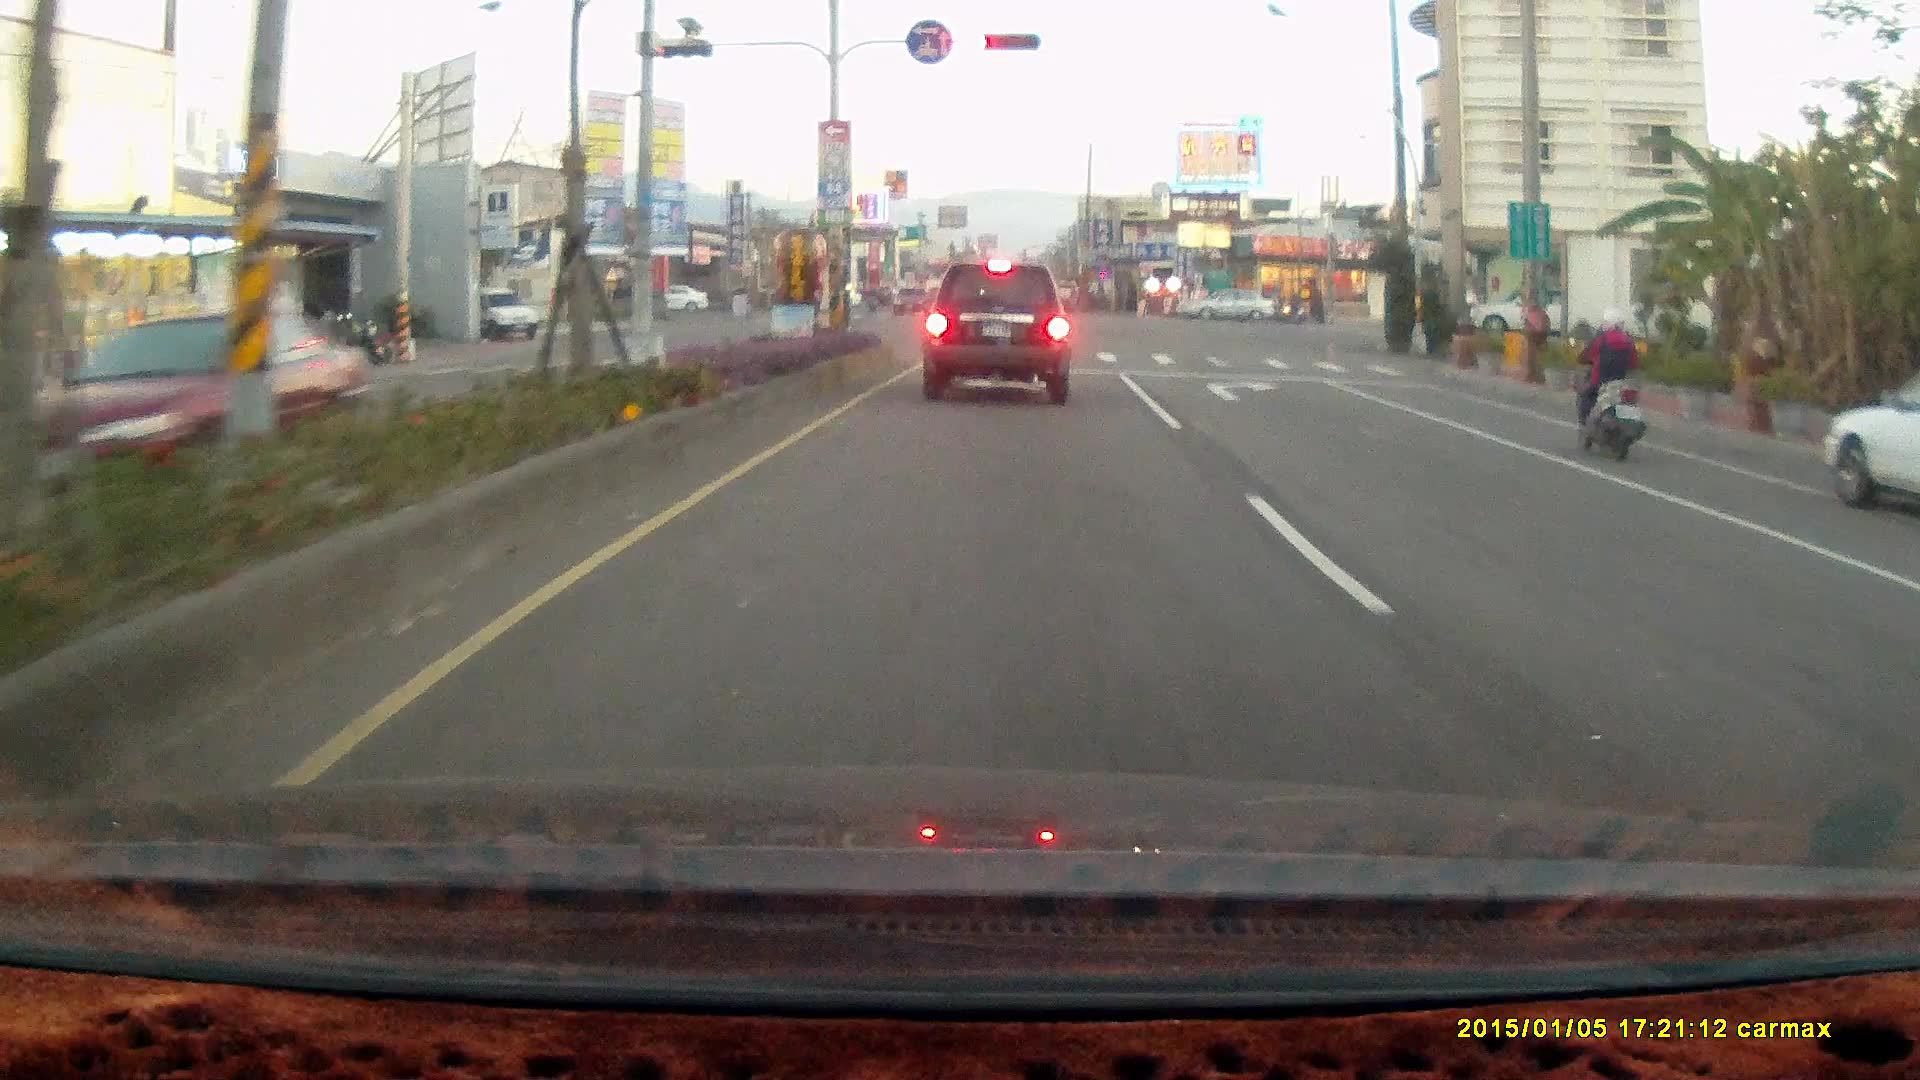rider: (1564, 304, 1646, 461), (1277, 286, 1310, 323)
vehicle: (921, 261, 1070, 405), (1821, 358, 1920, 519), (1821, 371, 1918, 520), (1896, 493, 1920, 836), (1467, 282, 1588, 340), (1883, 528, 1920, 690), (467, 287, 541, 344), (1174, 288, 1278, 325), (1173, 287, 1276, 321)
